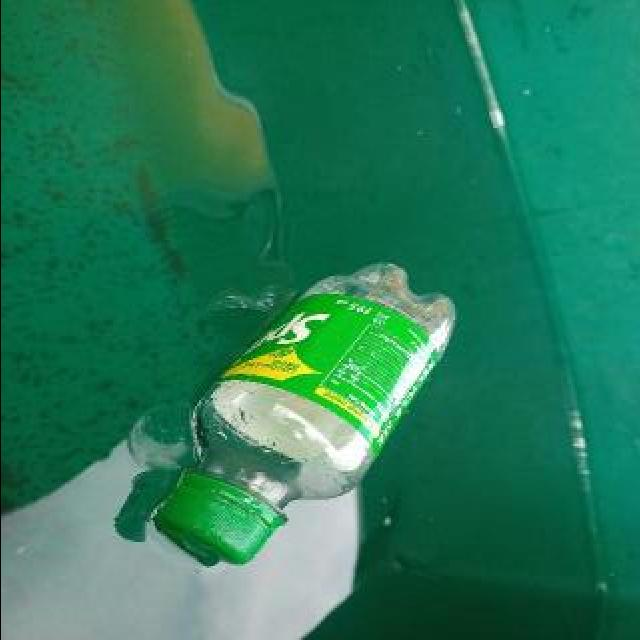Bottle: (149, 258, 461, 572)
